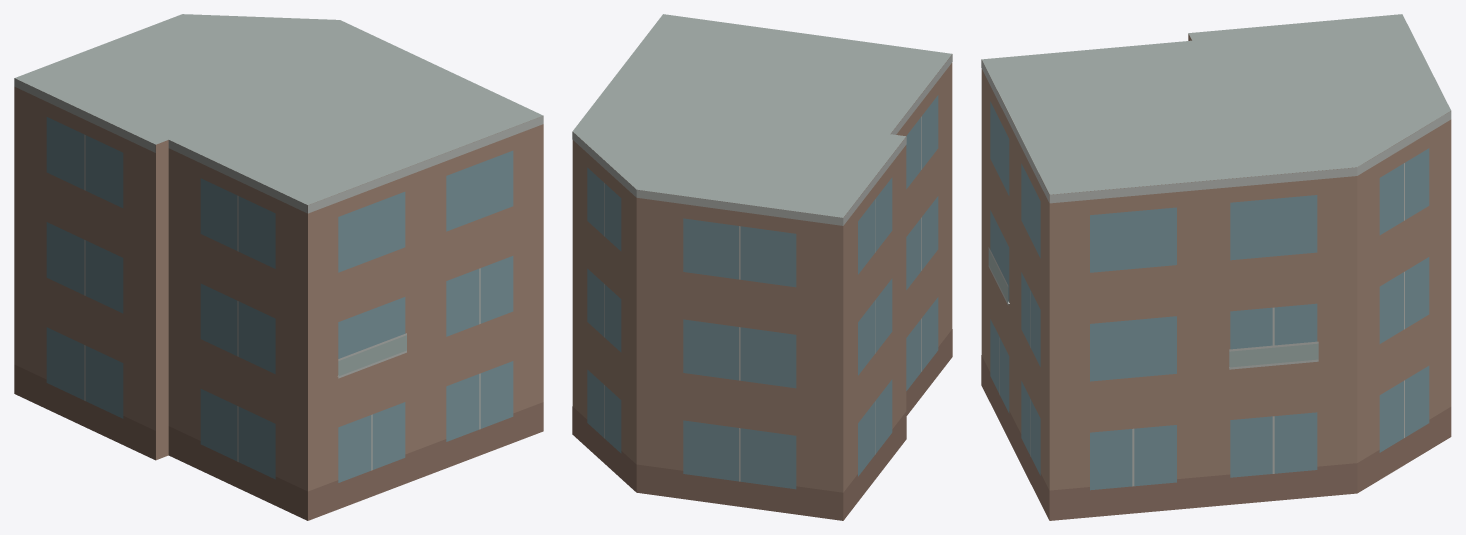
The model's file is survey-upis-32698502.glb.
3 views of the same model, side by side, from view 1: azimuth 30°, elevation 25°; view 2: azimuth 150°, elevation 25°; view 3: azimuth 270°, elevation 25° (orthographic). The views are drawn at different scales.
Parts seen in each view (by area): view 1: survey-upis-32698502.tmp; view 2: survey-upis-32698502.tmp; view 3: survey-upis-32698502.tmp.
Part boxes in pixels (x1,y1,x2,y2): survey-upis-32698502.tmp: [14, 14, 543, 520]; survey-upis-32698502.tmp: [572, 14, 952, 520]; survey-upis-32698502.tmp: [981, 14, 1451, 520].
Size of the model in its own units: 10.88 by 9.15 by 11.95.
